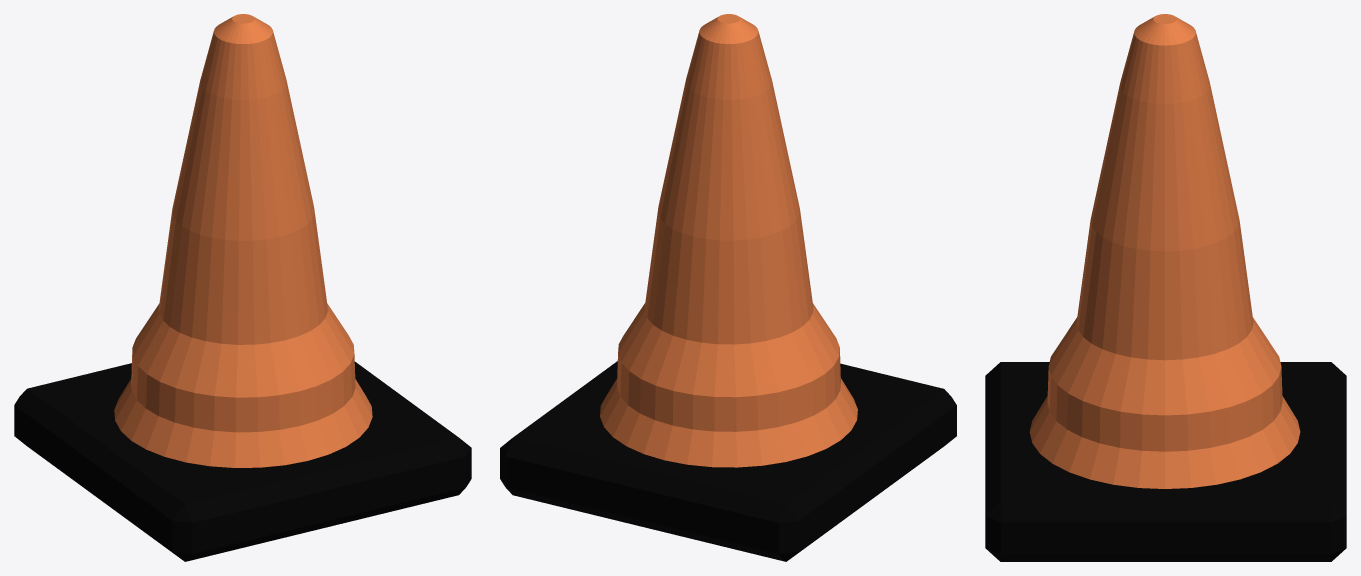
3 views of the same model, side by side, from view 1: azimuth 30°, elevation 25°; view 2: azimuth 150°, elevation 25°; view 3: azimuth 270°, elevation 25° (orthographic). The views are drawn at different scales.
Visible parts, largest first — view 1: Cone; view 2: Cone; view 3: Cone.
Part boxes in pixels (x1,y1,x2,y2): Cone: [14, 14, 471, 561]; Cone: [500, 14, 956, 561]; Cone: [985, 14, 1346, 561].
Size of the model in its own units: 58.87 by 58.87 by 84.99.
